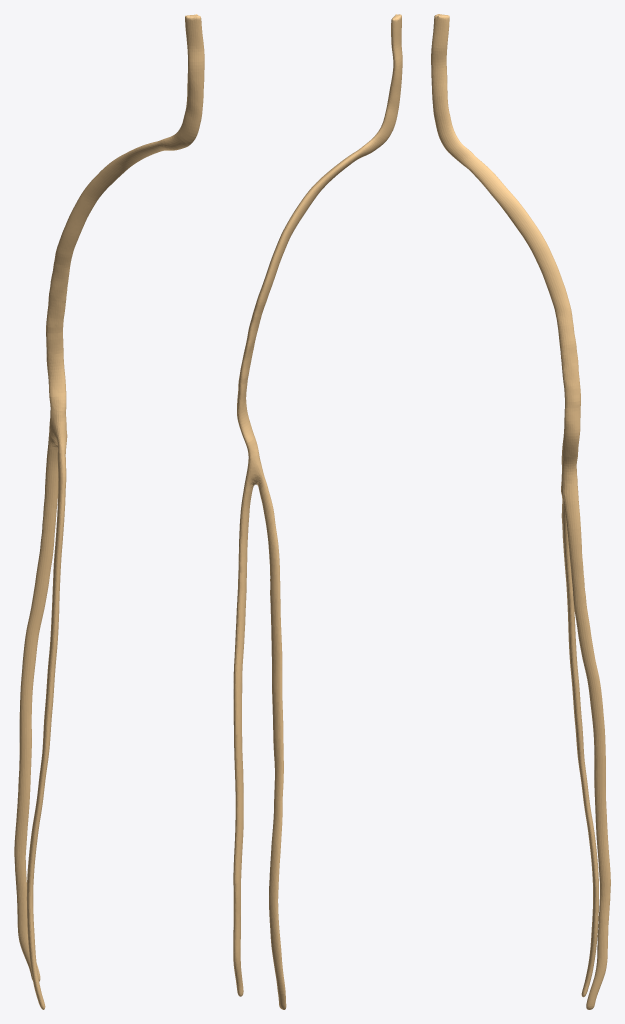
The model's file is N_radial.glb.
3 renders of one model, left to right at view 1: azimuth 90°, elevation 25°; view 2: azimuth 150°, elevation 25°; view 3: azimuth 270°, elevation 25°, orthographic. The views are drawn at different scales.
Parts seen in each view (by area): view 1: N_radial; view 2: N_radial; view 3: N_radial.
Part boxes in pixels (x1,y1,x2,y2): N_radial: [14, 14, 204, 1009]; N_radial: [233, 14, 402, 1009]; N_radial: [431, 14, 610, 1009].
Bounding box in the file's own units: 0.00135 × 0.0126 × 0.00214.
